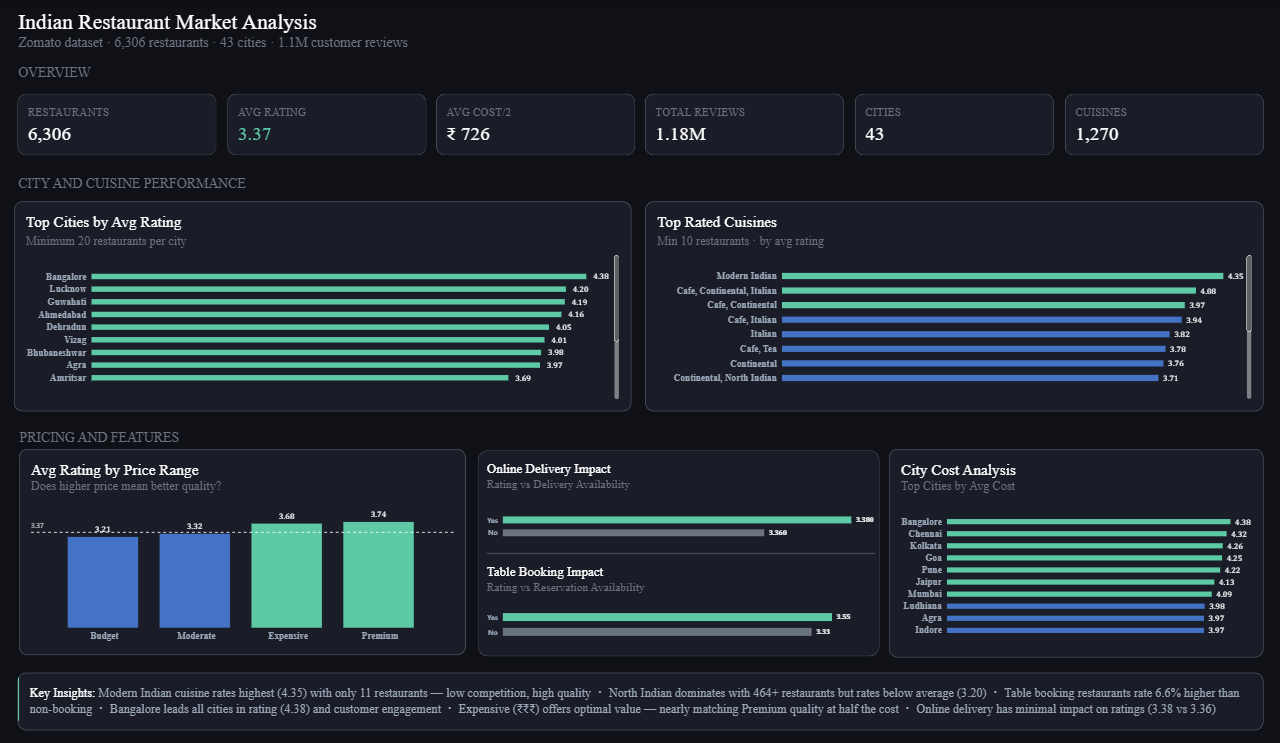

Layout of this report page (visuals, bound fields, positions):
{"tool":"powerbi","page":{"name":"Page 1","canvas":[2235,1300],"ordinal":0},"visuals":[{"type":"textbox","box":[27.6,12.9,785.5,95],"z":1000},{"type":"cardVisual","fields":{"Data":["Sum(01_overall_kpis.total_restaurants)"]},"box":[14.8,147.7,380,141],"z":2000},{"type":"textbox","box":[27.6,108.7,407.7,58.4],"z":3000},{"type":"cardVisual","fields":{"Data":["Sum(01_overall_kpis.avg_rating)"]},"box":[380,147.7,380,141],"z":4000},{"type":"cardVisual","fields":{"Data":["Sum(01_overall_kpis.avg_cost_for_two)"]},"box":[744,147.7,380,141],"z":5000},{"type":"cardVisual","fields":{"Data":["Sum(01_overall_kpis.total_votes)"]},"box":[1107,147,380,141],"z":6000},{"type":"cardVisual","fields":{"Data":["Sum(01_overall_kpis.total_cities)"]},"box":[1472,147,380,141],"z":7000},{"type":"cardVisual","fields":{"Data":["Sum(01_overall_kpis.total_cuisines)"]},"box":[1836,147.7,380,141.4],"z":8000},{"type":"clusteredBarChart","title":"Top Cities by Avg Rating","fields":{"Category":["02_city_performace - Copy.city"],"Y":["Avg(02_city_performace - Copy.avg_rating)"]},"box":[26.7,351.1,1073.5,364.8],"z":9000},{"type":"textbox","box":[27.4,302.9,460.4,61.6],"z":10000},{"type":"clusteredBarChart","title":"Top Rated Cuisines","fields":{"Category":["06_top_rated_cuisines.cuisines"],"Y":["Avg(06_top_rated_cuisines.avg_rating)"]},"box":[1124.4,351.1,1075.6,364.4],"z":11000},{"type":"clusteredColumnChart","title":"Avg Rating by Price Range","fields":{"Category":["03_price_performace.price_category"],"Y":["Sum(03_price_performace.avg_rating)"]},"box":[35,783.2,777,358.6],"z":12000},{"type":"textbox","box":[34.9,742.8,298.4,41.4],"z":13000},{"type":"shape","box":[832,784.1,699,358.5],"z":13500},{"type":"clusteredBarChart","title":"Online Delivery Impact","fields":{"Category":["04_online_delivery.has_online_delivery"],"Y":["Avg(04_online_delivery.avg_rating)"]},"box":[828,784.2,713,192.9],"z":14000},{"type":"clusteredBarChart","title":"Table Booking Impact","fields":{"Category":["05_table_booking.has_table_booking"],"Y":["Avg(05_table_booking.avg_rating)"]},"box":[828,962.8,713,192],"z":15000},{"type":"shape","box":[847.4,867,676,193.7],"z":16000},{"type":"clusteredBarChart","title":"City Cost Analysis","fields":{"Category":["08_city_rating.city"],"Y":["Avg(08_city_rating.avg_rating)"]},"box":[1548.9,782.2,651.1,362.2],"z":16001},{"type":"textbox","box":[33.3,1171.1,2166.7,100],"z":16002},{"type":"shape","box":[24,1181,20,75],"z":16003}]}

Visuals, with their boxes in screenshot pixels (x1, y1, x2, y2), scaled from the page's 2235x1300 canvas onto the 1280x743 screenshot:
textbox: detection(16, 7, 466, 62)
cardVisual - Sum(01_overall_kpis.total_restaurants): detection(8, 84, 226, 165)
textbox: detection(16, 62, 249, 96)
cardVisual - Sum(01_overall_kpis.avg_rating): detection(218, 84, 435, 165)
cardVisual - Sum(01_overall_kpis.avg_cost_for_two): detection(426, 84, 644, 165)
cardVisual - Sum(01_overall_kpis.total_votes): detection(634, 84, 852, 165)
cardVisual - Sum(01_overall_kpis.total_cities): detection(843, 84, 1061, 165)
cardVisual - Sum(01_overall_kpis.total_cuisines): detection(1051, 84, 1269, 165)
"Top Cities by Avg Rating" clusteredBarChart: detection(15, 201, 630, 409)
textbox: detection(16, 173, 279, 208)
"Top Rated Cuisines" clusteredBarChart: detection(644, 201, 1260, 409)
"Avg Rating by Price Range" clusteredColumnChart: detection(20, 448, 465, 653)
textbox: detection(20, 425, 191, 448)
shape: detection(476, 448, 877, 653)
"Online Delivery Impact" clusteredBarChart: detection(474, 448, 883, 558)
"Table Booking Impact" clusteredBarChart: detection(474, 550, 883, 660)
shape: detection(485, 496, 872, 606)
"City Cost Analysis" clusteredBarChart: detection(887, 447, 1260, 654)
textbox: detection(19, 669, 1260, 726)
shape: detection(14, 675, 25, 718)
